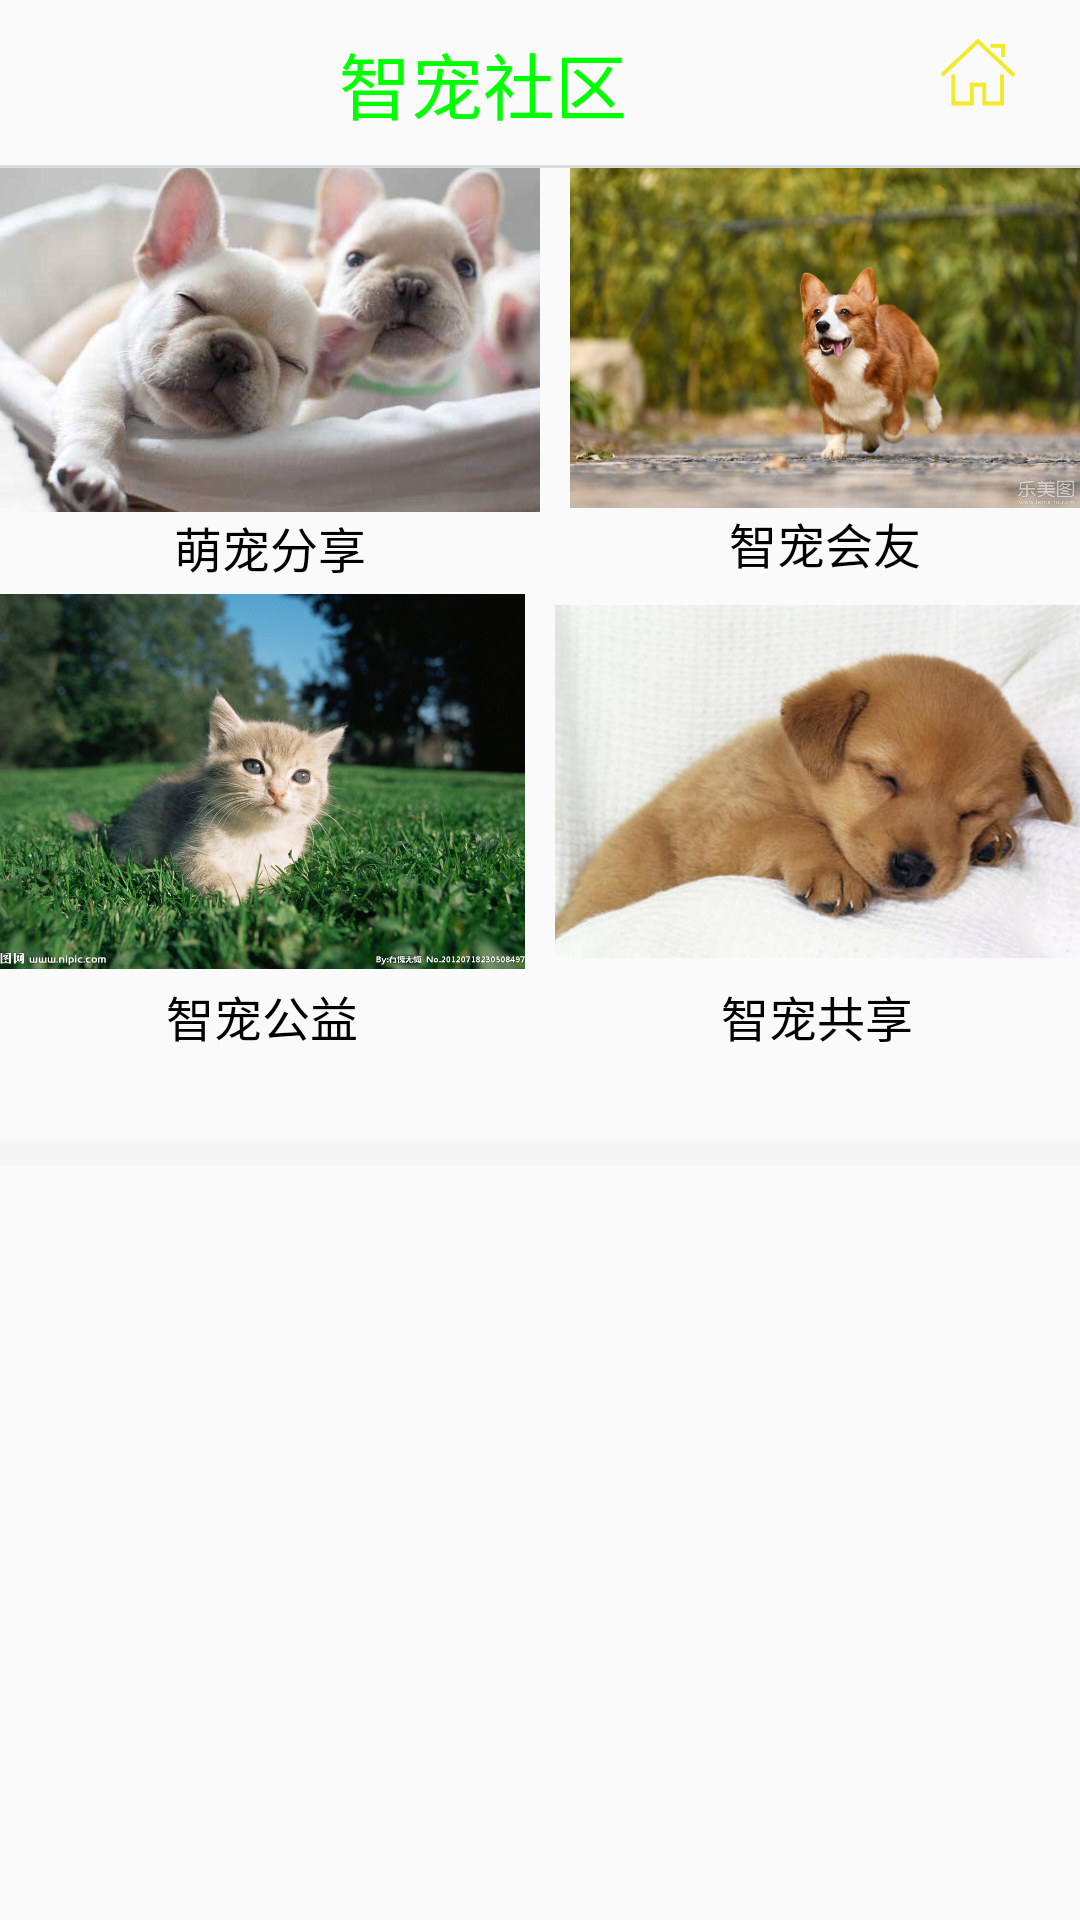

Point at icon controls on the screen. Image size 1080px×1920px, points as [x,y].
house: [977,72]
